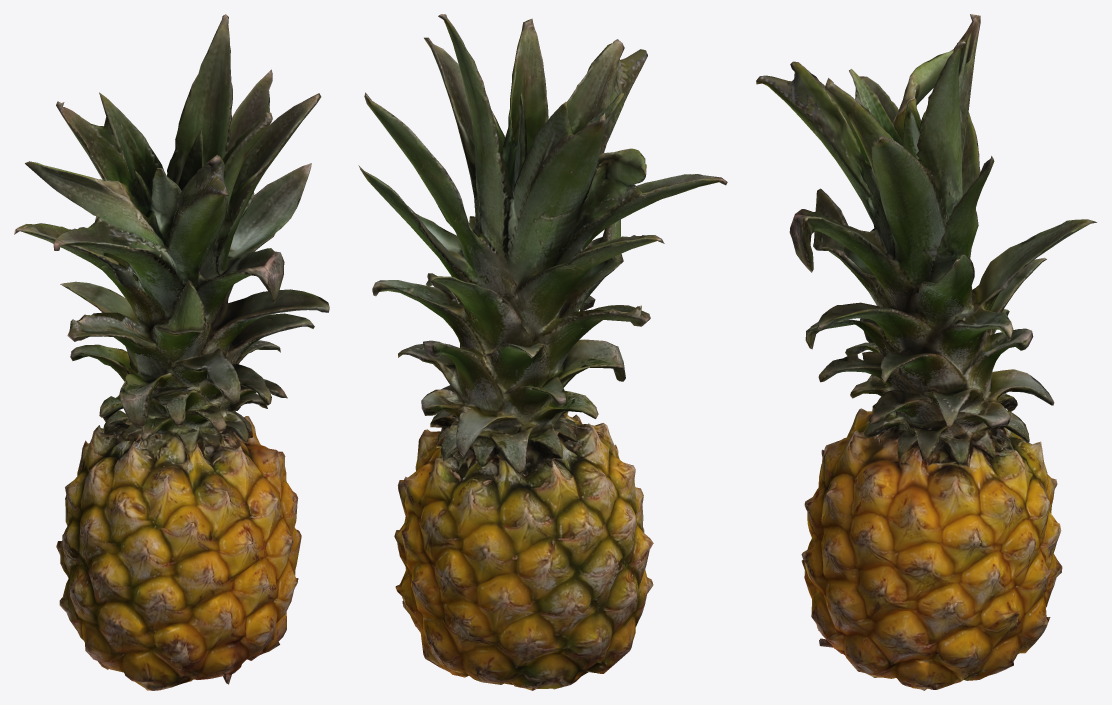
Rendered from pineapple_fruit.glb.
The picture shows the model from 3 angles, left to right: view 1: azimuth 30°, elevation 25°; view 2: azimuth 150°, elevation 25°; view 3: azimuth 270°, elevation 25°; orthographic projection. The views are drawn at different scales.
Visible parts, largest first — view 1: 3DModel_LowPoly_0; view 2: 3DModel_LowPoly_0; view 3: 3DModel_LowPoly_0.
Part boxes in pixels (box(x1,y1,x2,y2)): 3DModel_LowPoly_0: box(14, 14, 329, 690); 3DModel_LowPoly_0: box(358, 14, 727, 690); 3DModel_LowPoly_0: box(756, 14, 1096, 690).
Bounding box in the file's own units: 1.37 × 2.66 × 1.26.
1 material, 1 textured.
